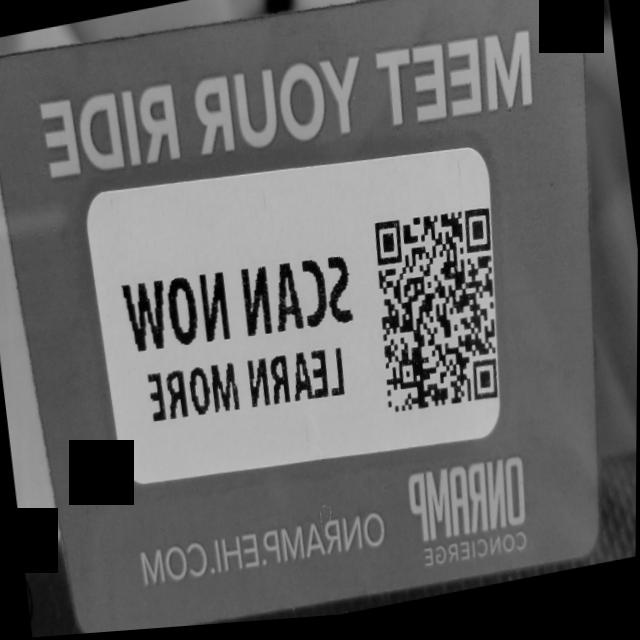QR_CODE: (351, 173, 522, 454)
